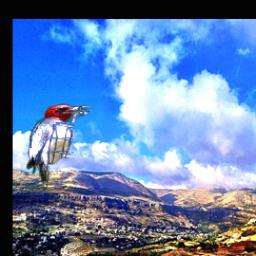Sparrow: (60, 236, 115, 256)
Woodpecker: (27, 103, 94, 191)
